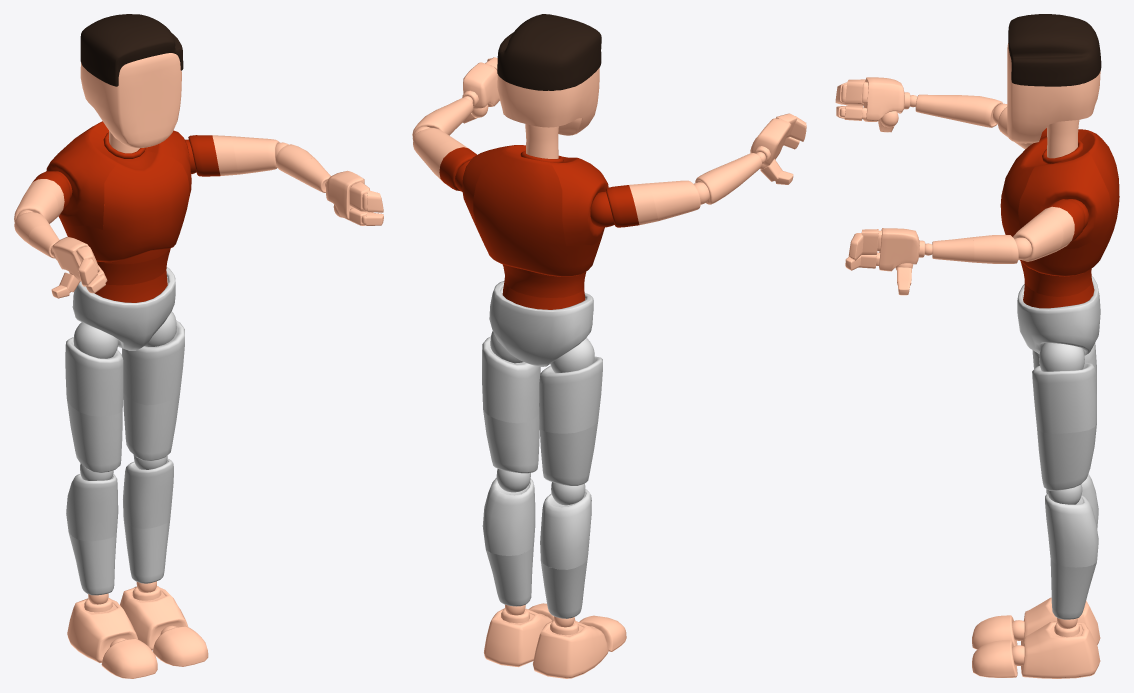
File: Casteller.fbx
3 renders of one model, left to right at view 1: azimuth 30°, elevation 25°; view 2: azimuth 150°, elevation 25°; view 3: azimuth 270°, elevation 25°, orthographic.
Parts seen in each view (by area): view 1: chest_PRX, head_PRX, rtLegUpr_1_PRX, human_hair1_PRX, rtClav_PRX, lfLegUpr_1_PRX, hip_PRX, rtLegLwr_1_PRX, lfLegLwr_1_PRX, rtAnkle_PRX, lfLegUpr_2_PRX, rtLegUpr_2_PRX (+18 smaller); view 2: chest_PRX, human_hair1_PRX, hip_PRX, rtLegUpr_1_PRX, head_PRX, lfLegLwr_1_PRX, lfLegUpr_1_PRX, rtLegLwr_1_PRX, rtAnkle_PRX, rtClav_PRX, lfAnkle_PRX, rtLegUpr_2_PRX (+16 smaller); view 3: human_hair1_PRX, chest_PRX, lfLegUpr_1_PRX, lfClav_PRX, head_PRX, lfAnkle_PRX, lfLegLwr_1_PRX, hip_PRX, lfLegUpr_2_PRX, rtHand_PRX, lfLegLwr_2_PRX, lfHand_PRX (+14 smaller).
Part boxes in pixels (box(x1,y1,x2,y2)): chest_PRX: box(60, 121, 189, 262); head_PRX: box(80, 53, 181, 148); rtLegUpr_1_PRX: box(65, 322, 123, 416); human_hair1_PRX: box(80, 14, 183, 86); rtClav_PRX: box(46, 129, 117, 229); lfLegUpr_1_PRX: box(122, 311, 184, 405); hip_PRX: box(72, 267, 175, 350); rtLegLwr_1_PRX: box(66, 463, 118, 541); lfLegLwr_1_PRX: box(123, 455, 173, 528); rtAnkle_PRX: box(67, 593, 138, 662); lfLegUpr_2_PRX: box(123, 393, 179, 460); rtLegUpr_2_PRX: box(67, 402, 122, 472); chest_PRX: box(472, 150, 604, 276); human_hair1_PRX: box(497, 14, 601, 90); hip_PRX: box(489, 281, 593, 366); rtLegUpr_1_PRX: box(539, 338, 602, 433); head_PRX: box(497, 68, 599, 135); lfLegLwr_1_PRX: box(482, 469, 535, 555); lfLegUpr_1_PRX: box(482, 331, 540, 423); rtLegLwr_1_PRX: box(540, 482, 591, 569); rtAnkle_PRX: box(533, 616, 608, 678); rtClav_PRX: box(551, 157, 608, 245); lfAnkle_PRX: box(484, 604, 551, 667); rtLegUpr_2_PRX: box(539, 422, 597, 485); human_hair1_PRX: box(1008, 14, 1101, 86); chest_PRX: box(1000, 131, 1119, 276); lfLegUpr_1_PRX: box(1032, 343, 1096, 433); lfClav_PRX: box(1018, 152, 1111, 248); head_PRX: box(1007, 43, 1100, 143); lfAnkle_PRX: box(1021, 618, 1100, 678); lfLegLwr_1_PRX: box(1045, 484, 1098, 567); hip_PRX: box(1017, 276, 1100, 355); lfLegUpr_2_PRX: box(1036, 424, 1096, 490); rtHand_PRX: box(862, 77, 917, 127); lfLegLwr_2_PRX: box(1050, 558, 1096, 619); lfHand_PRX: box(876, 228, 932, 271).
Bounding box in the file's own units: 100 × 181 × 73.73.
